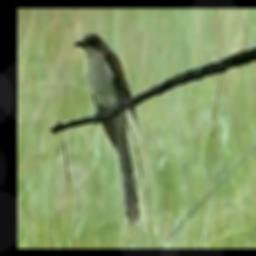Cuckoo: (74, 33, 143, 226)
